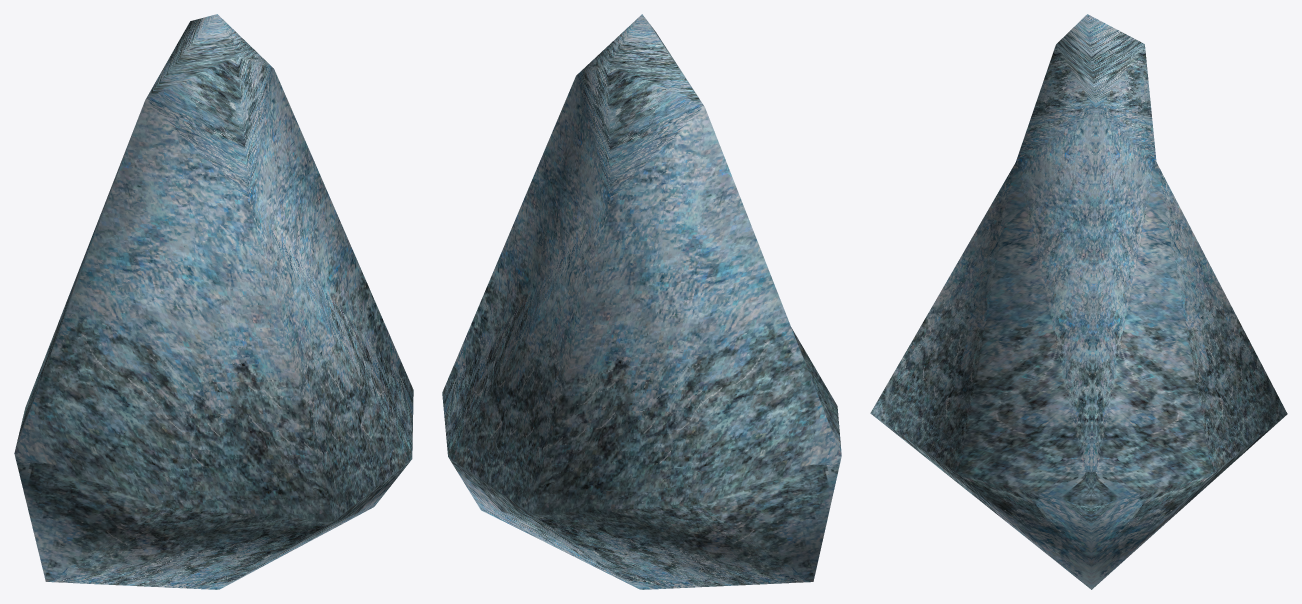
File: thm_all_cave_stalagmite_ice_b3_l2.fbx
The picture shows the model from 3 angles, left to right: view 1: azimuth 30°, elevation 25°; view 2: azimuth 150°, elevation 25°; view 3: azimuth 270°, elevation 25°; orthographic projection. The views are drawn at different scales.
Parts seen in each view (by area): view 1: mesh_node; view 2: mesh_node; view 3: mesh_node.
Boxes of the visible parts, x1,y1,x2,y2 form: mesh_node: [14, 14, 413, 589]; mesh_node: [442, 14, 841, 589]; mesh_node: [870, 14, 1287, 589].
Size of the model in its own units: 2.57 by 3.55 by 2.47.
